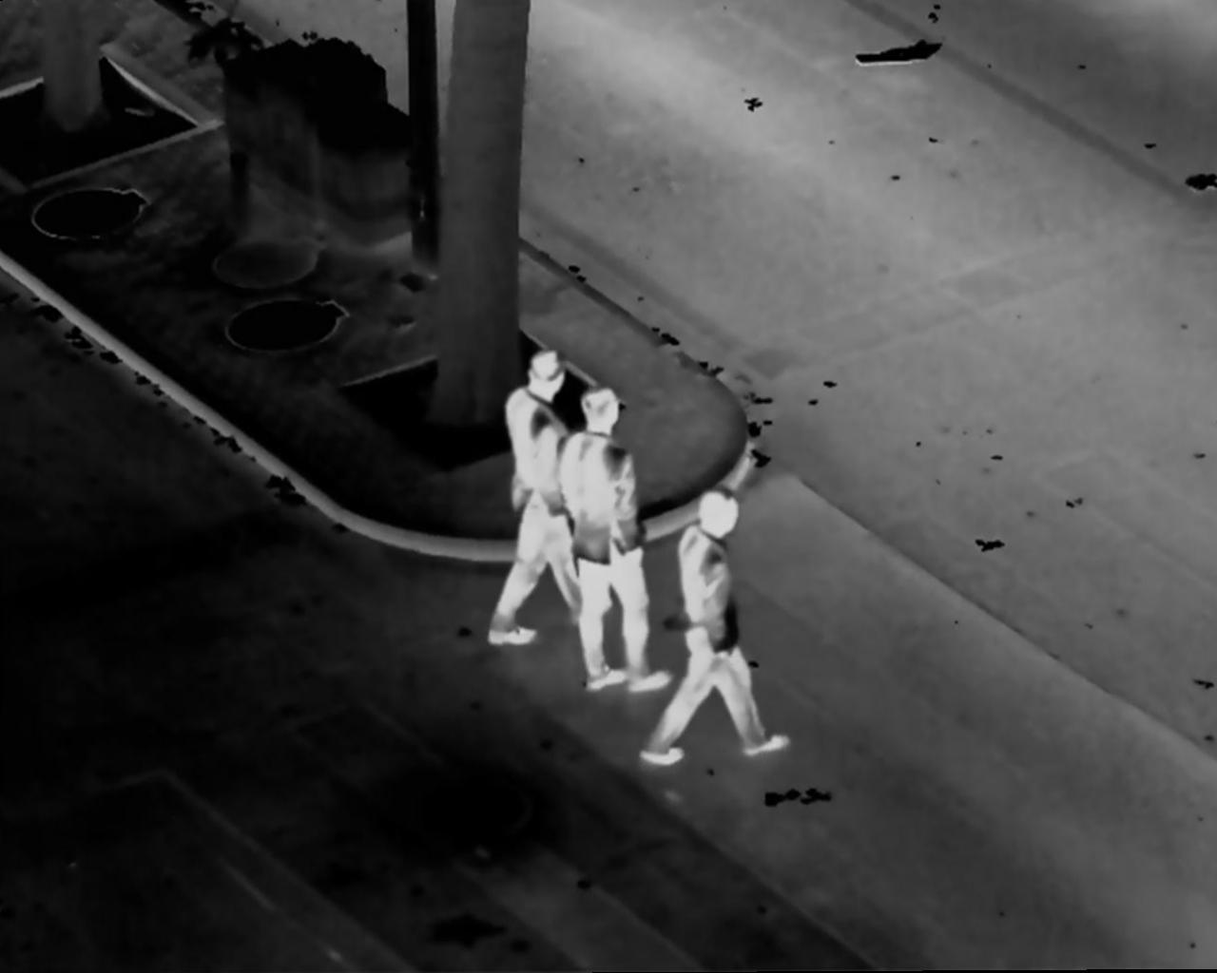person: (637, 485, 789, 770), (560, 384, 672, 696), (488, 348, 604, 643)
